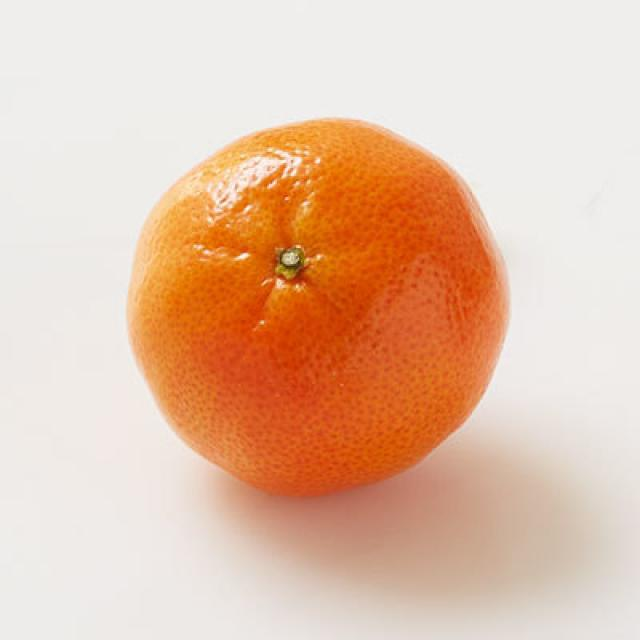Orange: (124, 116, 510, 498)
